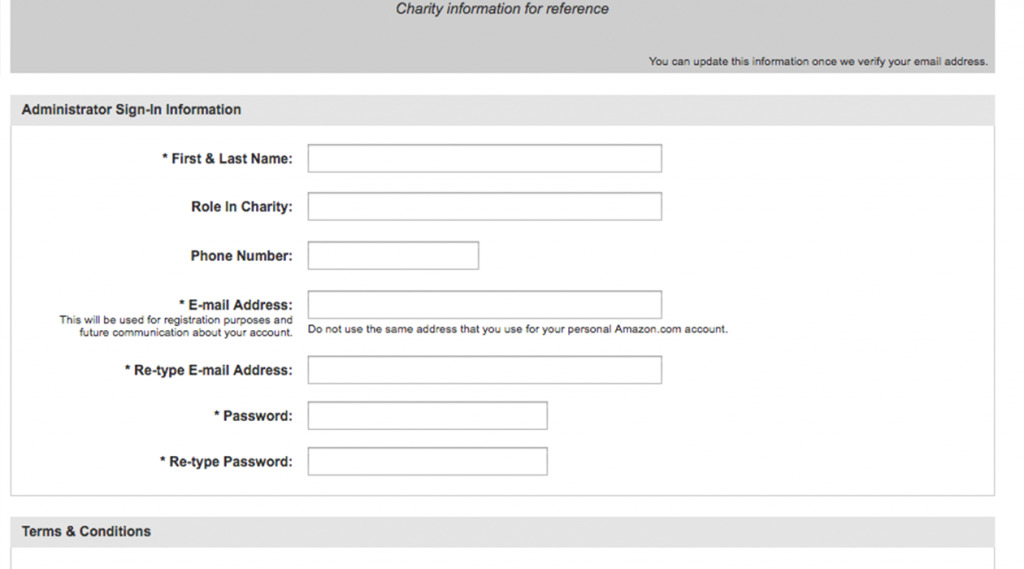_form_: (118, 110, 676, 512)
field: (303, 352, 663, 385), (303, 190, 663, 222), (303, 142, 662, 174), (303, 288, 662, 320), (303, 398, 549, 430), (303, 445, 548, 477), (302, 238, 481, 270)
field_with_label: (133, 350, 665, 386), (169, 139, 664, 177), (185, 285, 662, 322), (193, 187, 666, 223), (168, 444, 550, 479), (221, 395, 552, 432), (191, 236, 484, 272)
